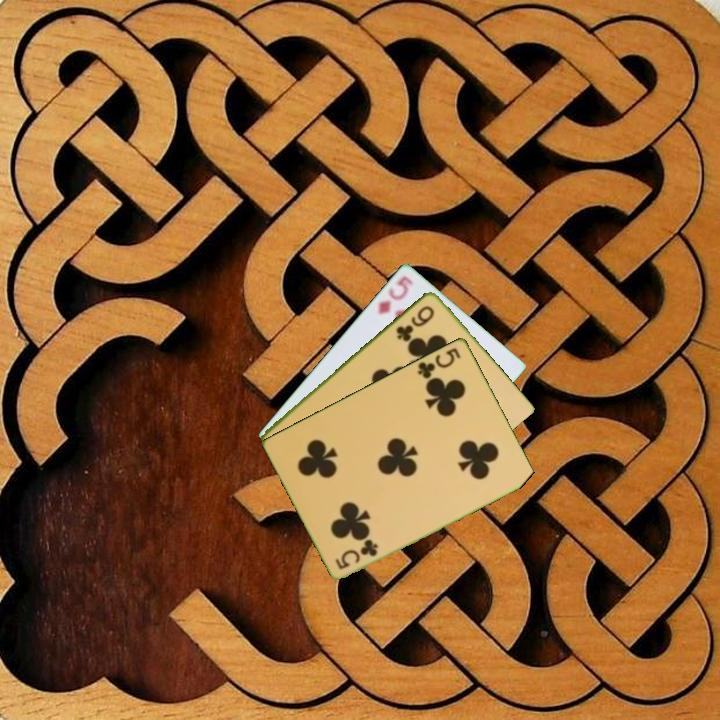5c: (414, 344, 464, 383), (331, 536, 381, 572)
5d: (374, 272, 417, 317)
9c: (392, 302, 437, 343)
